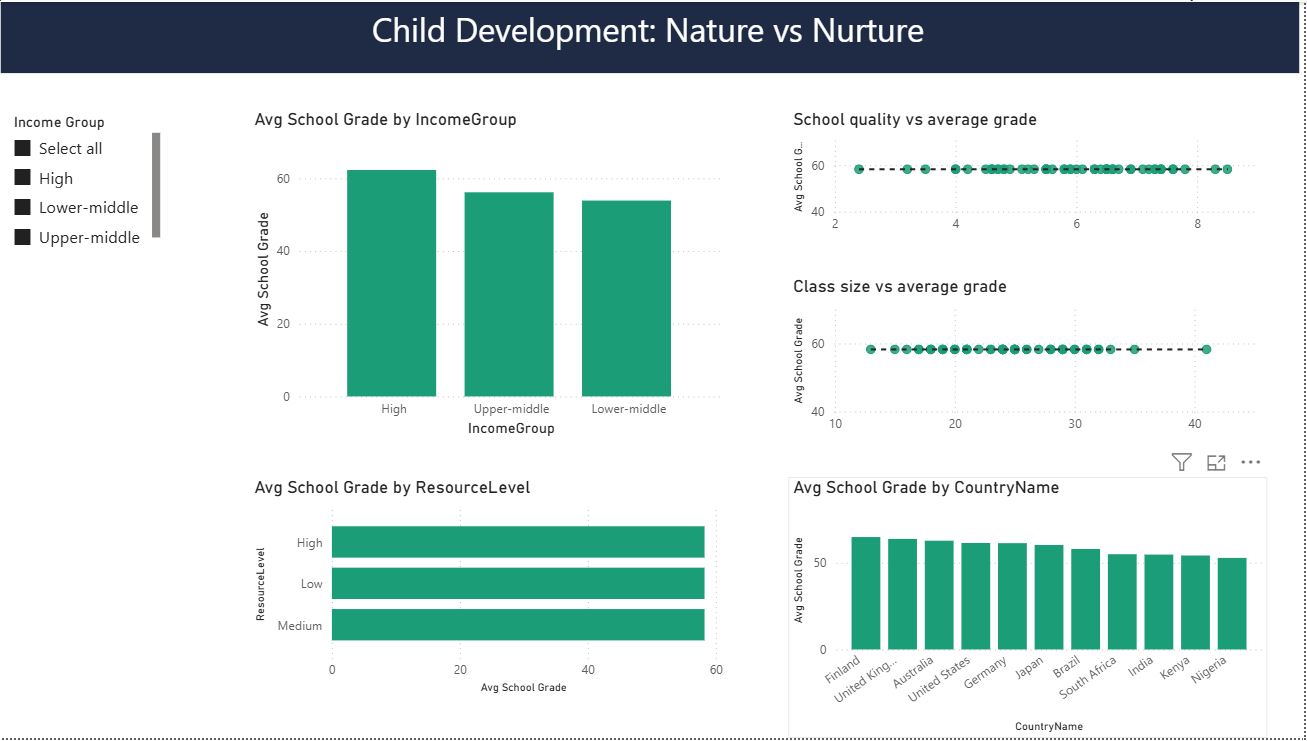

The dashboard page shown, as its layout file describes it:
{"tool":"powerbi","page":{"name":"Country vs School","canvas":[1280,720],"ordinal":3},"visuals":[{"type":"shape","box":[4.2,0,1270.3,69.6],"z":0},{"type":"textbox","box":[361.7,0,559.3,57],"z":1000},{"type":"slicer","fields":{"Values":["tblCountries.IncomeGroup"]},"box":[4.2,104.3,161.4,143.3],"z":2000},{"type":"clusteredColumnChart","fields":{"Category":["tblCountries.IncomeGroup"],"Y":["_Measures.Avg School Grade"]},"box":[246.8,104.4,468.3,325.9],"z":3000},{"type":"scatterChart","title":"School quality vs average grade","fields":{"X":["Sum(tblSchools.SchoolQualityIndex)"],"Y":["_Measures.Avg School Grade"],"Category":["tblSchools.SchoolName"]},"box":[773.7,104.4,468.3,131.3],"z":4000},{"type":"scatterChart","title":"Class size vs average grade","fields":{"Y":["_Measures.Avg School Grade"],"Category":["tblSchools.SchoolName"],"X":["Sum(tblSchools.StudentTeacherRatio)"]},"box":[773.7,267.4,468.3,163],"z":5000},{"type":"clusteredBarChart","fields":{"Category":["tblSchools.ResourceLevel"],"Y":["_Measures.Avg School Grade"]},"box":[246.8,465.2,468.3,216.8],"z":6000},{"type":"columnChart","fields":{"Y":["_Measures.Avg School Grade"],"Category":["tblCountries.CountryName"]},"box":[773.7,465.2,468.3,254.7],"z":7000}]}

Visuals, with their boxes in screenshot pixels (x1, y1, x2, y2), scaled from the page's 1280x720 canvas onto the 1307x741 screenshot:
shape: [4, 0, 1301, 72]
textbox: [369, 0, 940, 59]
slicer - tblCountries.IncomeGroup: [4, 107, 169, 255]
clusteredColumnChart - tblCountries.IncomeGroup x _Measures.Avg School Grade: [252, 107, 730, 443]
"School quality vs average grade" scatterChart: [790, 107, 1268, 243]
"Class size vs average grade" scatterChart: [790, 275, 1268, 443]
clusteredBarChart - tblSchools.ResourceLevel x _Measures.Avg School Grade: [252, 479, 730, 702]
columnChart - _Measures.Avg School Grade x tblCountries.CountryName: [790, 479, 1268, 740]
